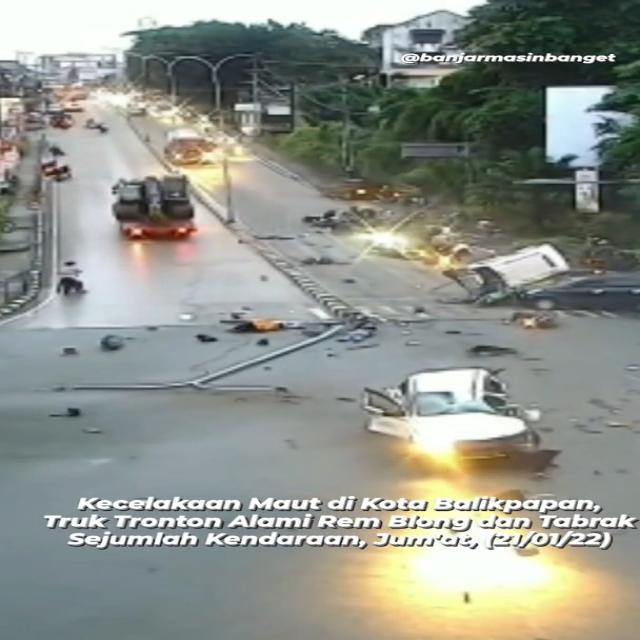accident: (360, 222, 640, 318), (353, 369, 576, 477), (297, 184, 420, 244)
